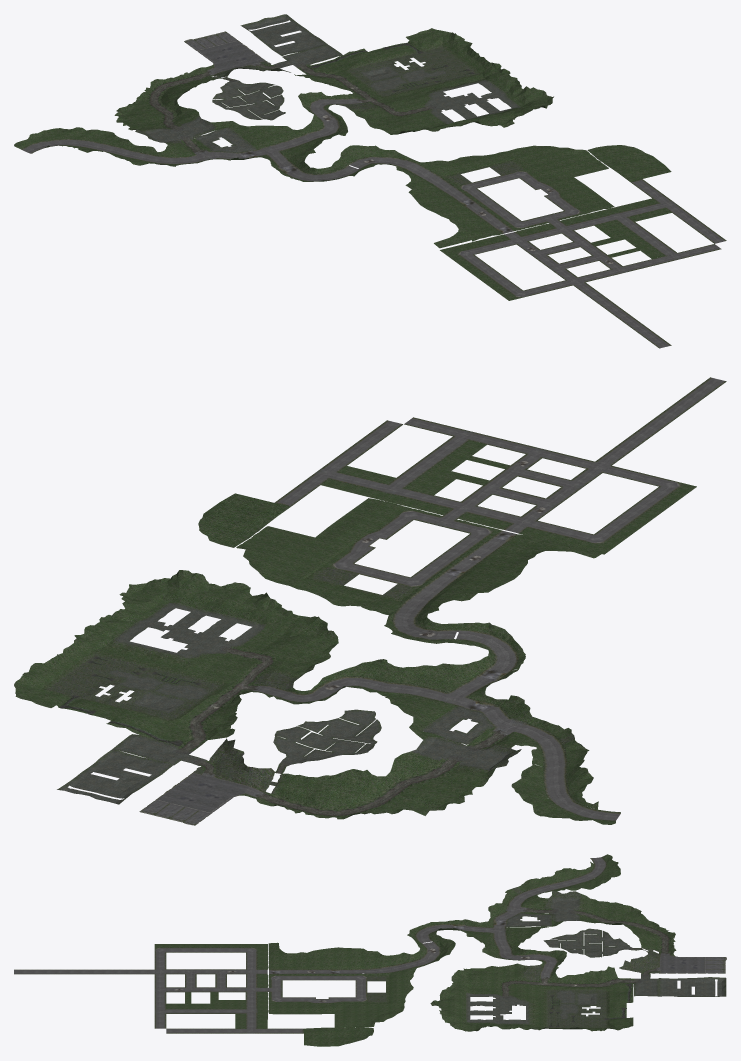
The model's file is Mis_Training_floor.fbx.
3 renders of one model, top to bottom at view 1: azimuth 30°, elevation 25°; view 2: azimuth 150°, elevation 25°; view 3: azimuth 270°, elevation 25°, orthographic. The views are drawn at different scales.
Parts seen in each view (by area): view 1: Object38, Plane01, Object245, Plane03, Mesh35, Mesh1588, Object47, Loft01, Mesh40, F_teren37, Object39, Object45 (+33 smaller); view 2: Object38, Plane01, Plane03, Object245, F_teren37, Mesh35, Mesh1588, F_teren22, F_teren52, Mesh40, Loft01, Object47 (+60 smaller); view 3: Object38, Plane01, Object32, F_teren37, Object47, Object245, Plane03, Mesh35, Mesh1588, Loft01, Object45, Mesh1606 (+42 smaller).
Boxes of the visible parts, <box> form: Object38: <box>508,145,614,212</box>; Plane01: <box>212,81,285,120</box>; Object245: <box>587,145,671,181</box>; Plane03: <box>184,31,265,71</box>; Mesh35: <box>467,203,665,254</box>; Mesh1588: <box>523,244,721,295</box>; Object47: <box>428,207,501,248</box>; Loft01: <box>406,163,514,233</box>; Mesh40: <box>449,198,657,252</box>; F_teren37: <box>352,108,440,134</box>; Object39: <box>416,151,515,176</box>; Object45: <box>573,282,671,348</box>; Object38: <box>236,498,405,585</box>; Plane01: <box>273,709,381,764</box>; Plane03: <box>139,772,249,825</box>; Object245: <box>198,493,290,547</box>; F_teren37: <box>260,615,338,676</box>; Mesh35: <box>329,472,593,541</box>; Mesh1588: <box>404,417,668,486</box>; F_teren22: <box>372,659,482,691</box>; F_teren52: <box>315,769,392,807</box>; Mesh40: <box>321,479,600,550</box>; Loft01: <box>393,530,518,616</box>; Object47: <box>469,534,602,573</box>; Object38: <box>268,1001,404,1027</box>; Plane01: <box>543,928,629,957</box>; Object32: <box>325,947,403,969</box>; F_teren37: <box>451,963,523,987</box>; Object47: <box>268,942,328,969</box>; Object245: <box>304,1027,373,1046</box>; Plane03: <box>659,955,726,973</box>; Mesh35: <box>245,952,267,1028</box>; Mesh1588: <box>154,952,166,1028</box>; Loft01: <box>269,961,414,974</box>; Object45: <box>14,969,154,974</box>; Mesh1606: <box>166,1028,303,1033</box>.
Size of the model in its own units: 19617 by 922 by 31383.
